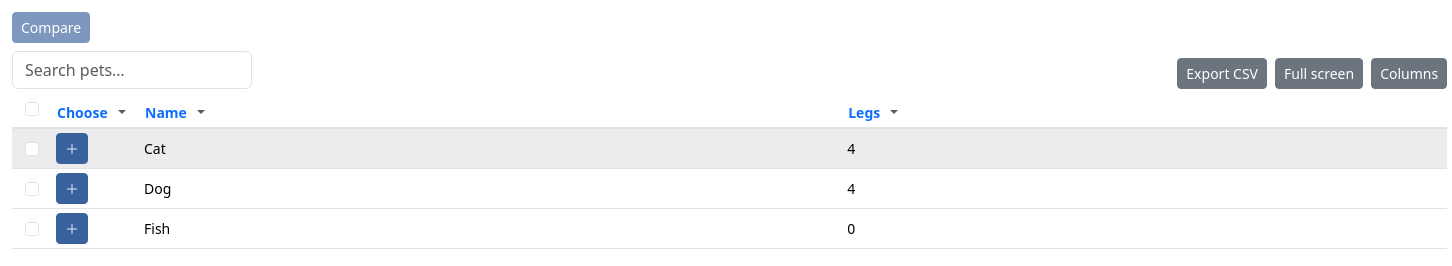
Test: PickOne › chooses from a row, then folds the table into a summary of the choice
Step 1. Click the button named "Choose" next to "Dog" → (72, 188), box [56,173,88,204]
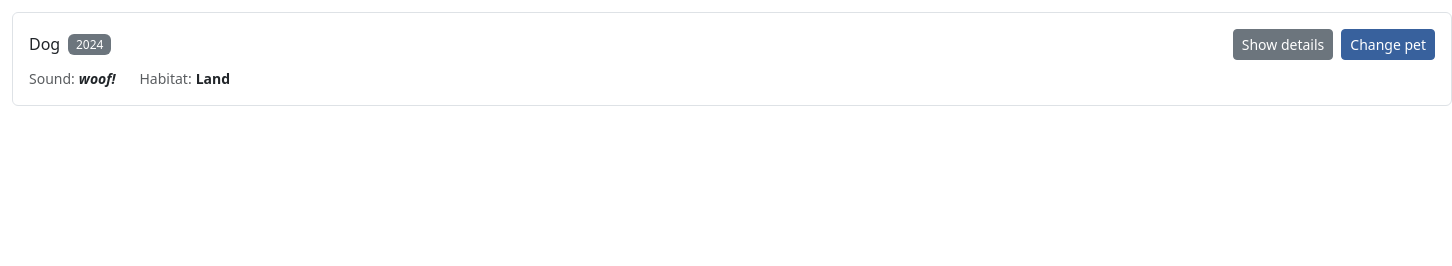
Now the table "Pets" is gone
Now the text "2024" is shown, box [68,34,111,55]
Now the text "Habitat:" is shown, box [140,68,192,89]
